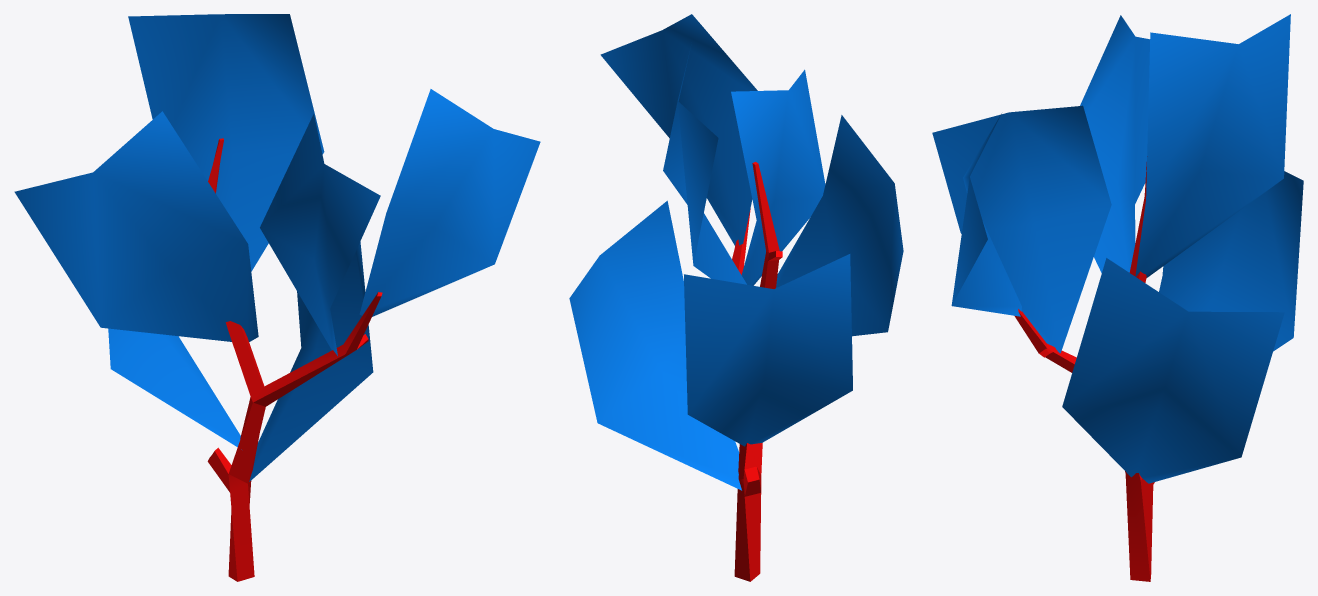
File: SM_Tree_Dead_03.glb
3 renders of one model, left to right at view 1: azimuth 30°, elevation 25°; view 2: azimuth 150°, elevation 25°; view 3: azimuth 270°, elevation 25°, orthographic. The views are drawn at different scales.
Parts seen in each view (by area): view 1: SM_Tree_Dead_03; view 2: SM_Tree_Dead_03; view 3: SM_Tree_Dead_03.
Boxes of the visible parts, x1,y1,x2,y2 form: SM_Tree_Dead_03: (14, 14, 540, 581); SM_Tree_Dead_03: (569, 14, 903, 581); SM_Tree_Dead_03: (932, 14, 1303, 581).
Bounding box in the file's own units: 0.9904 × 1.23 × 0.7231.
